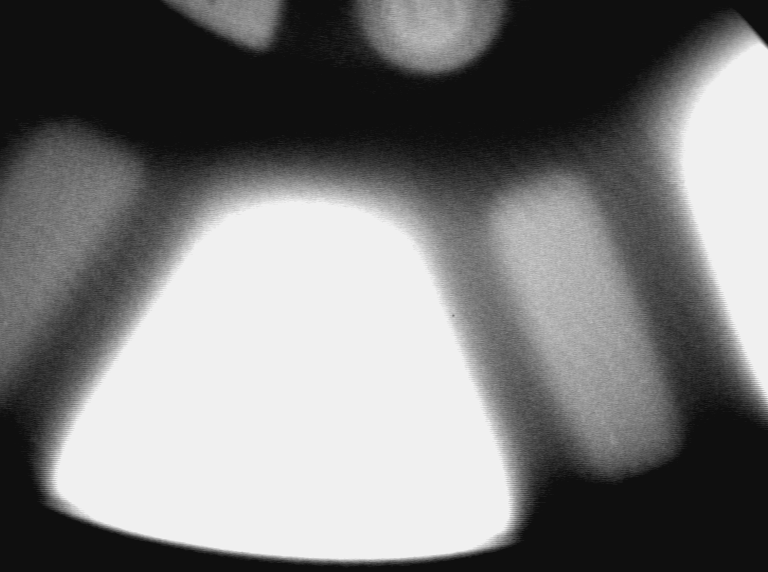defect: (596, 418, 625, 452)
